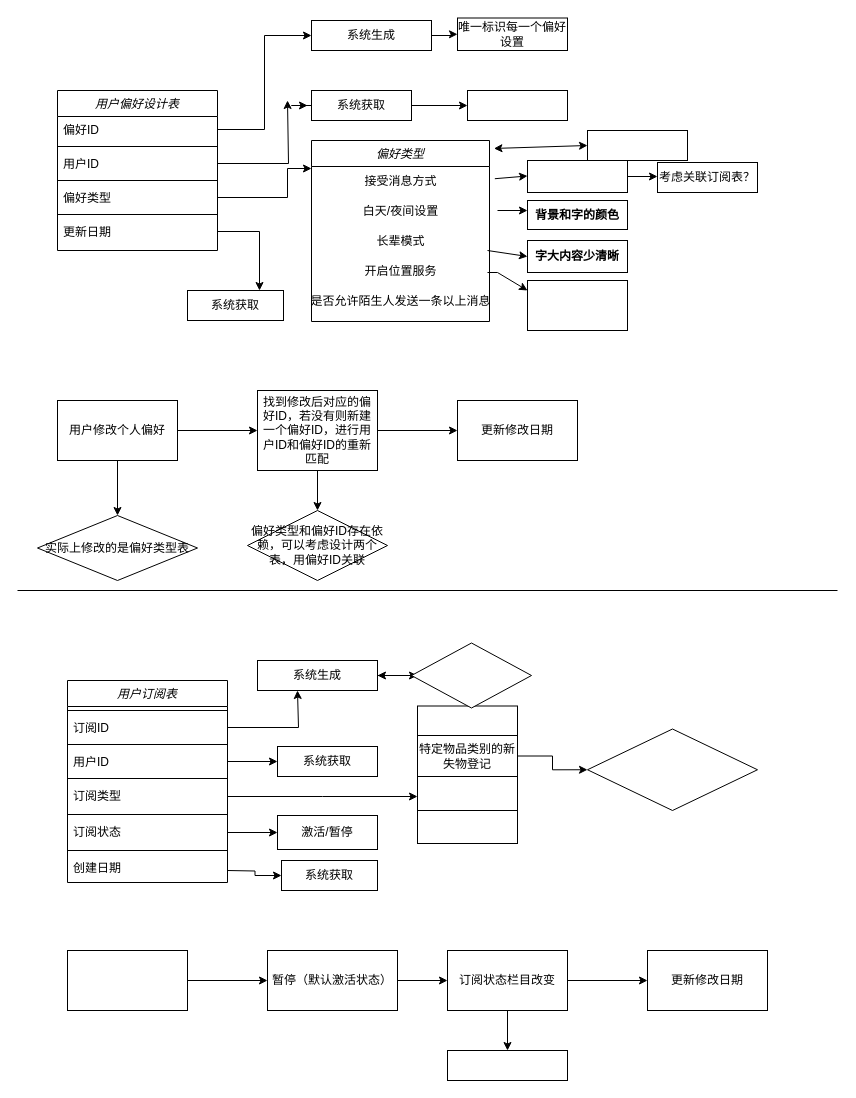
Some shapes in this 856 by 1098 pixel diagram are drawn without their labels. The shapes that lost their labels are listed below. From the top down, each one's centre as x and y in pixels, then its label:
the point at 517,105: 关联用户，确定是谁的偏好设置
the point at 637,145: 用户指定
the point at 577,176: 是否弹窗提醒来信
the point at 577,305: 推送附近的寻物启事/把你发布的推送给附近的人
the point at 471,675: 有用吗？去掉？
the point at 467,720: 特定位置附近新失物登记推送
the point at 672,769: 要不要做成一个表？形成都可以修改的状态，类似偏好设计
the point at 467,793: 用户消息弹窗
the point at 467,827: 关注失物状态改变弹窗
the point at 127,980: 用户修改订阅状态
the point at 507,1065: 订阅ID&订阅类型改变
